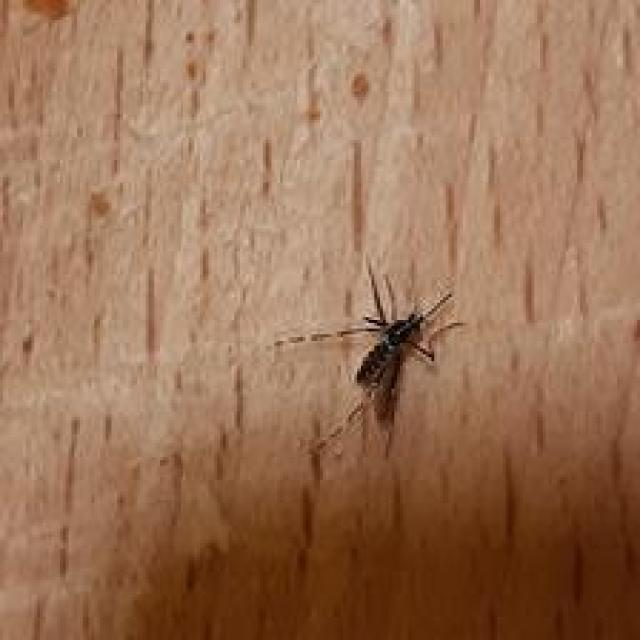Aedes albopictus: (271, 254, 466, 460)
